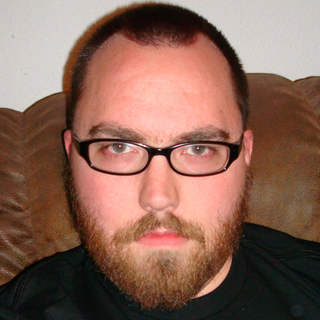eye: (97, 135, 139, 159), (179, 139, 224, 161)
